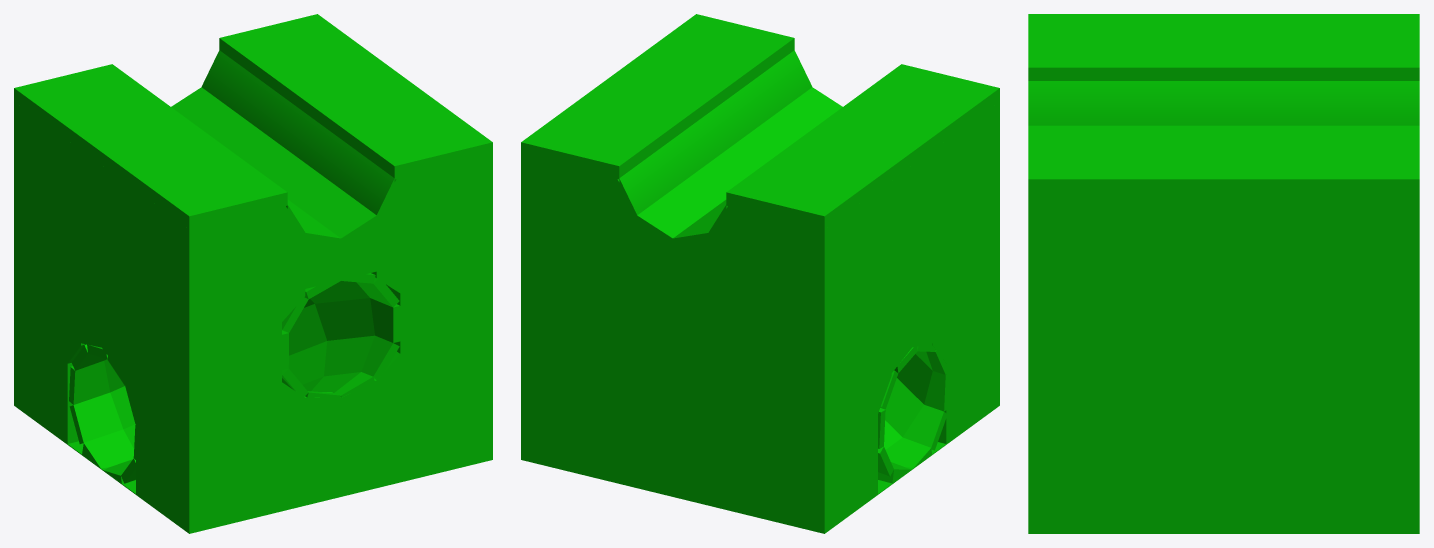
The model's file is UCXKugelbahn.10.fbx.
3 views of the same model, side by side, from view 1: azimuth 30°, elevation 25°; view 2: azimuth 150°, elevation 25°; view 3: azimuth 270°, elevation 25° (orthographic). The views are drawn at different scales.
Visible parts, largest first — view 1: UCX_Kugelbahn.10_low; view 2: UCX_Kugelbahn.10_low; view 3: UCX_Kugelbahn.10_low.
Part boxes in pixels (x1,y1,x2,y2): UCX_Kugelbahn.10_low: (14,14,492,533); UCX_Kugelbahn.10_low: (521,14,999,533); UCX_Kugelbahn.10_low: (1028,14,1419,533).
Size of the model in its own units: 0.05 by 0.05 by 0.05.
